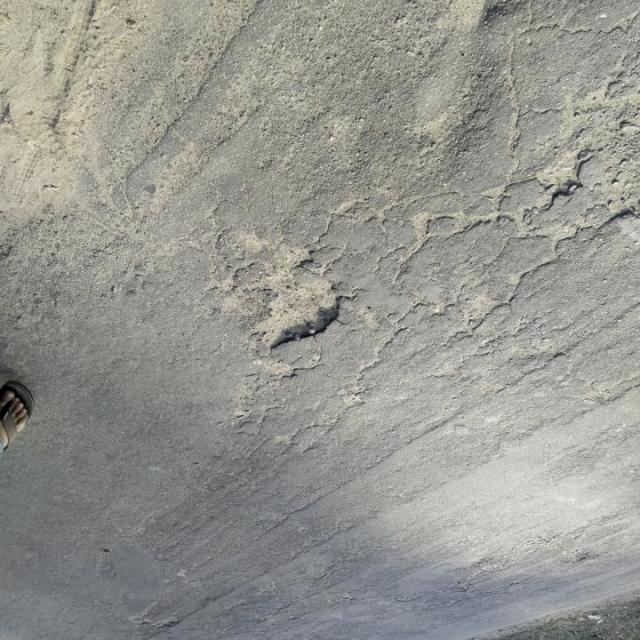pothole: (218, 220, 378, 392), (500, 111, 640, 231), (128, 598, 186, 636)
